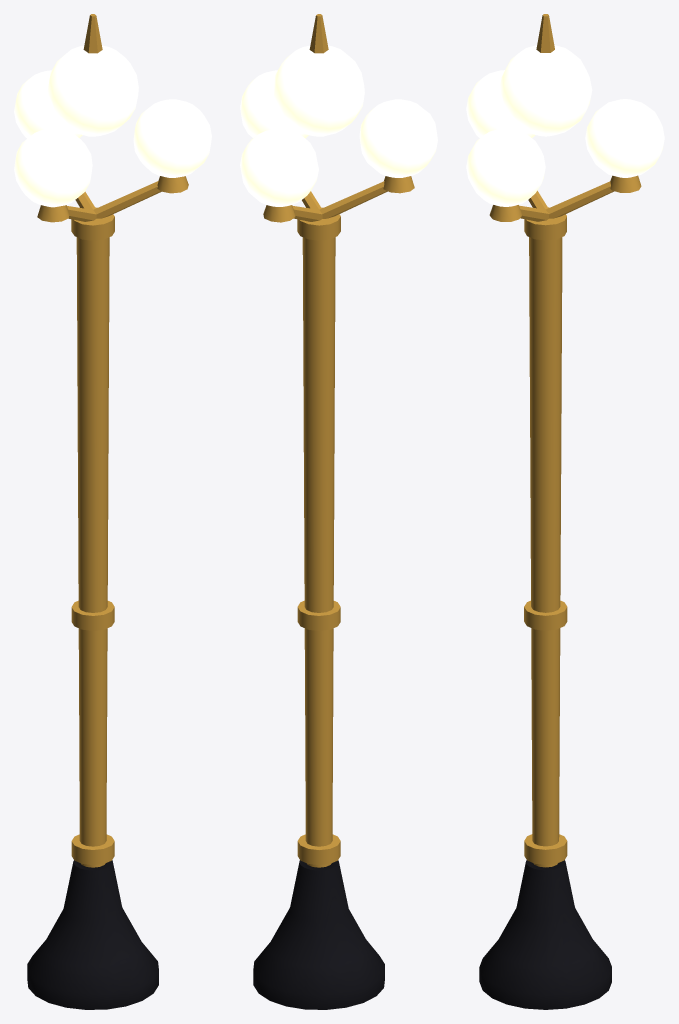
The model's file is lamp-post.glb.
The picture shows the model from 3 angles, left to right: view 1: azimuth 30°, elevation 25°; view 2: azimuth 150°, elevation 25°; view 3: azimuth 270°, elevation 25°; orthographic projection.
Parts seen in each view (by area): view 1: lamp-post_lod0; view 2: lamp-post_lod0; view 3: lamp-post_lod0.
Part boxes in pixels (x1,y1,x2,y2): lamp-post_lod0: (14, 14, 211, 1009); lamp-post_lod0: (240, 14, 437, 1009); lamp-post_lod0: (466, 14, 664, 1009).
Size of what is drawn, in the model's own units: 0.6562 by 3.22 by 0.5996.
